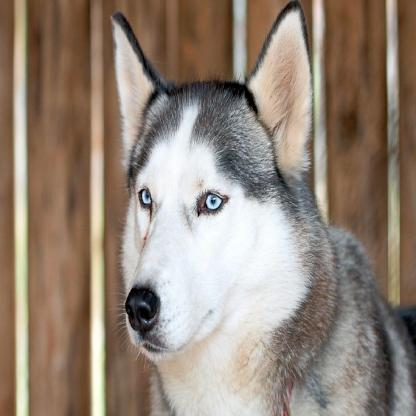dog: (105, 9, 416, 415)
